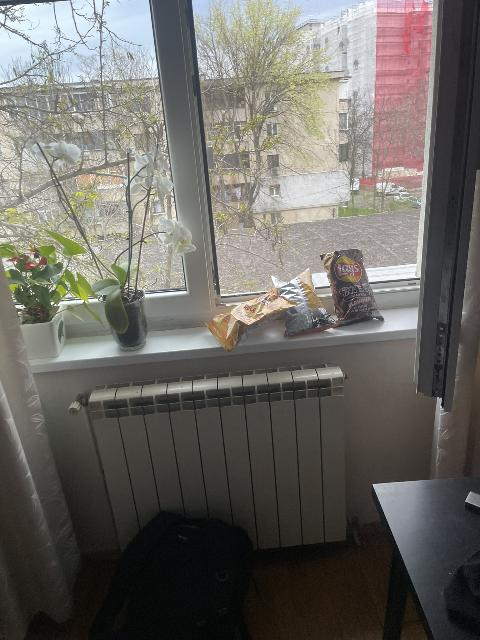Chio Cascaval 125g: (272, 270, 332, 337)
Chio Hula Hoops Cheese 70g: (209, 290, 289, 351)
Lays Beef Grilled Ribs 125g: (324, 248, 389, 329)
